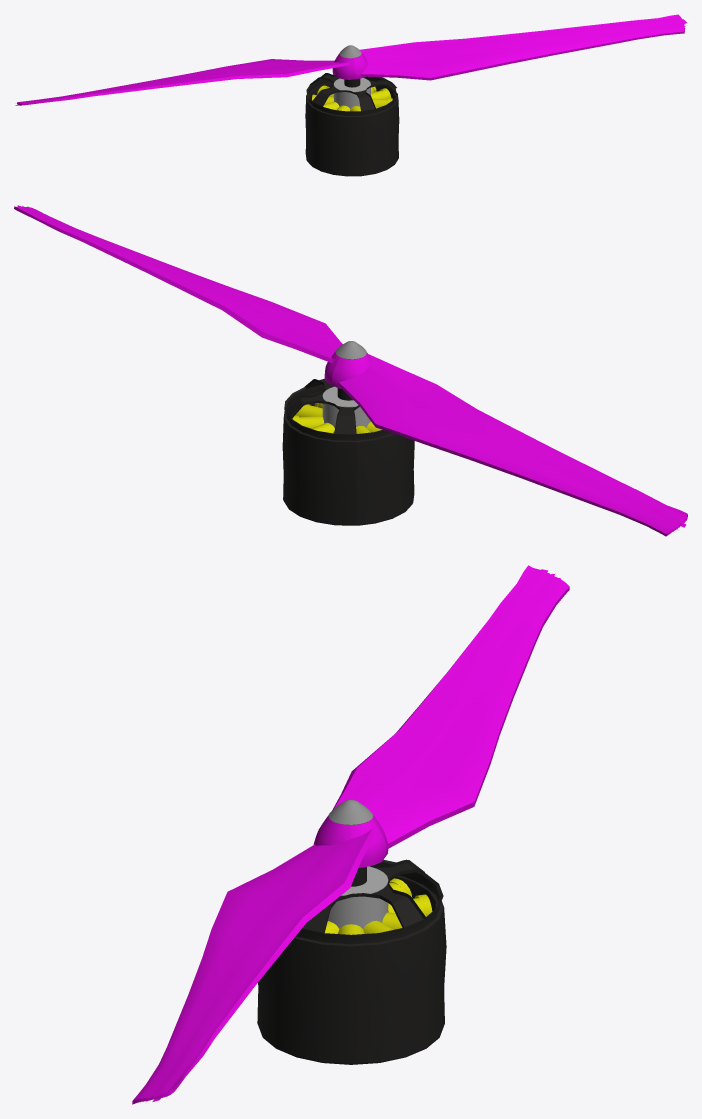
Rendered from motor_type_13.fbx.
The picture shows the model from 3 angles, top to bottom: view 1: azimuth 30°, elevation 25°; view 2: azimuth 150°, elevation 25°; view 3: azimuth 270°, elevation 25°; orthographic projection. The views are drawn at different scales.
Parts seen in each view (by area): view 1: polySurface38, pCylinder37, pCylinder36; view 2: polySurface38, pCylinder37, pCylinder36; view 3: polySurface38, pCylinder37, pCylinder36, polySurface37.
Boxes of the visible parts, x1=… form: polySurface38: x1=15, y1=14, x2=686, y2=105; pCylinder37: x1=305, y1=73, x2=399, y2=176; pCylinder36: x1=333, y1=78, x2=370, y2=108; polySurface38: x1=14, y1=205, x2=687, y2=536; pCylinder37: x1=282, y1=378, x2=414, y2=525; pCylinder36: x1=322, y1=386, x2=370, y2=427; polySurface38: x1=132, y1=565, x2=569, y2=1104; pCylinder37: x1=257, y1=859, x2=446, y2=1064; pCylinder36: x1=328, y1=866, x2=388, y2=928; polySurface37: x1=328, y1=799, x2=373, y2=824.
Bounding box in the file's own units: 17.81 × 3.32 × 5.89.
